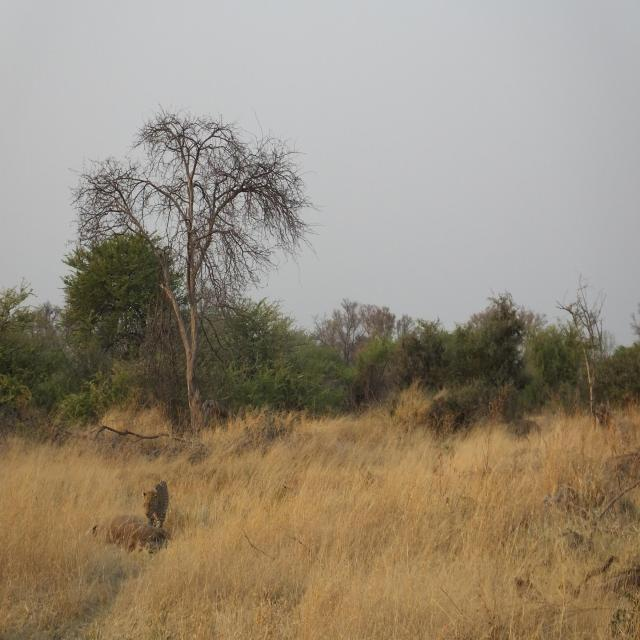Leopard: (132, 484, 178, 545)
